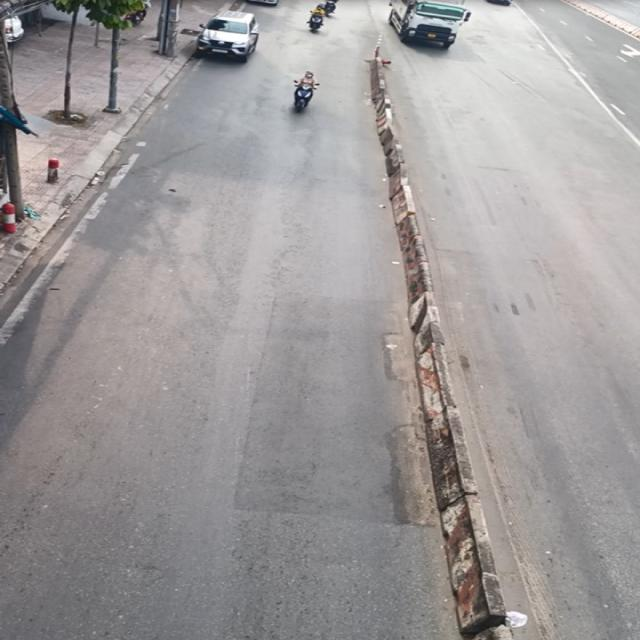motor: (292, 64, 321, 116)
